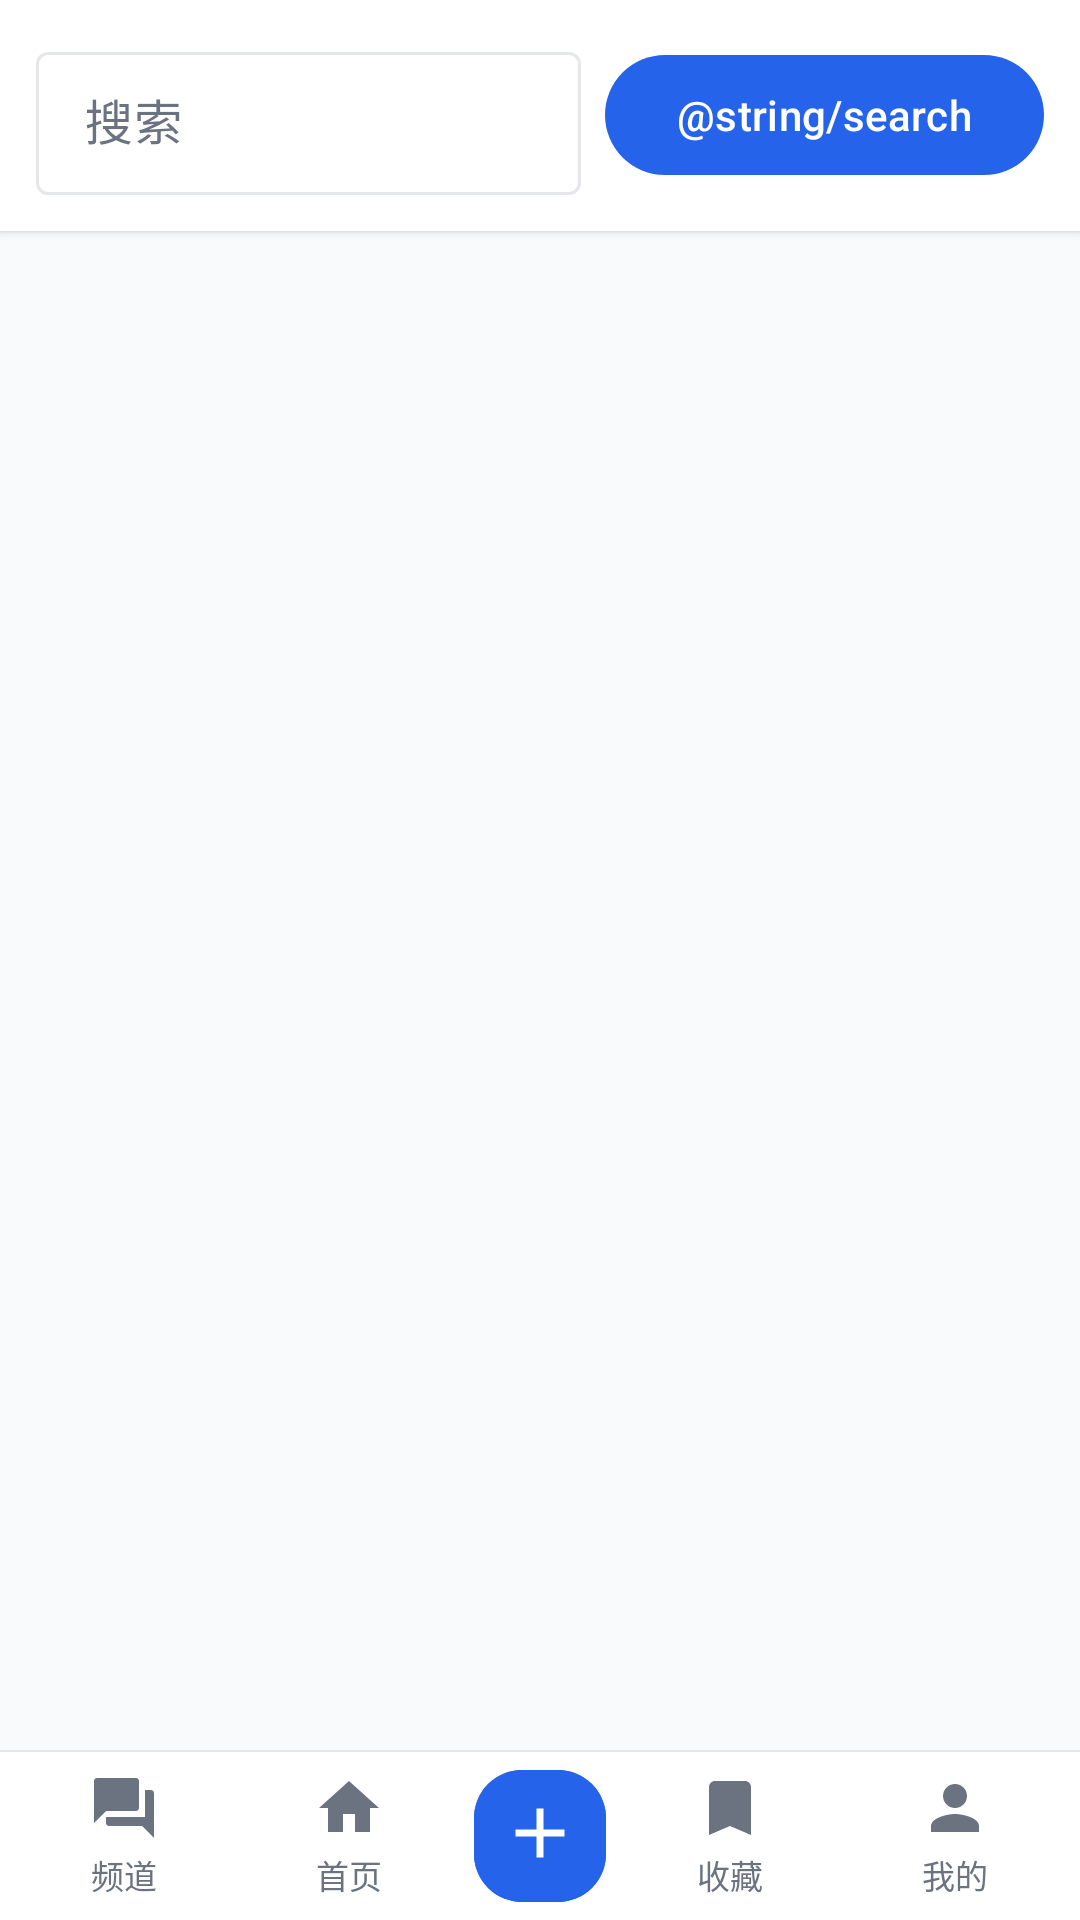

Icon click points for this 1080×1920 phone screenshot, format (x=x, y=y):
add: (x=540, y=1836)
